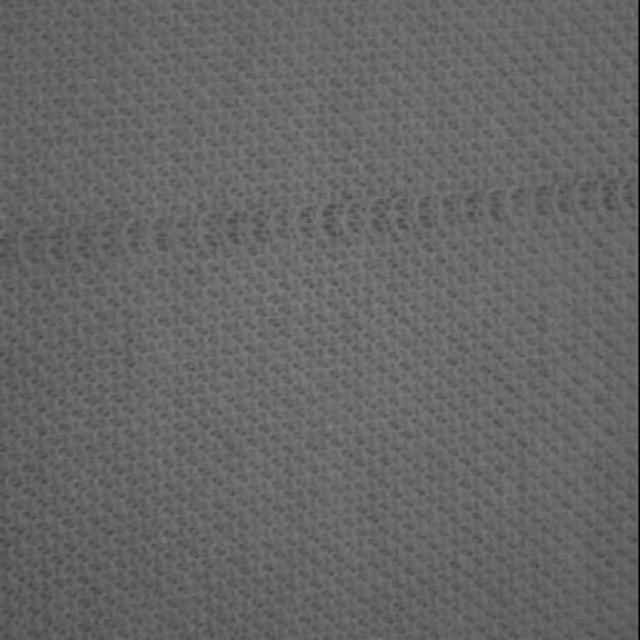Line: (4, 174, 635, 267)
